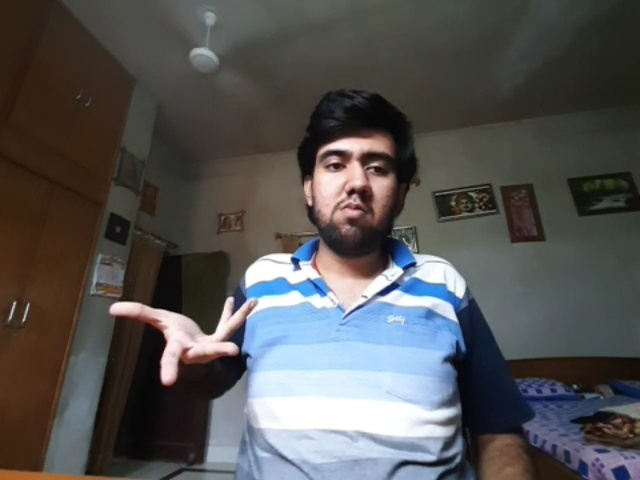What: (109, 295, 260, 385)
